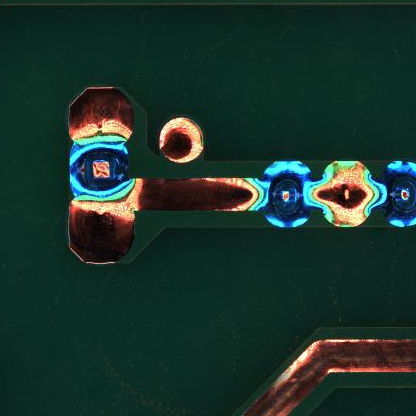spot: (67, 136, 131, 199), (263, 159, 310, 227), (384, 160, 416, 230)
